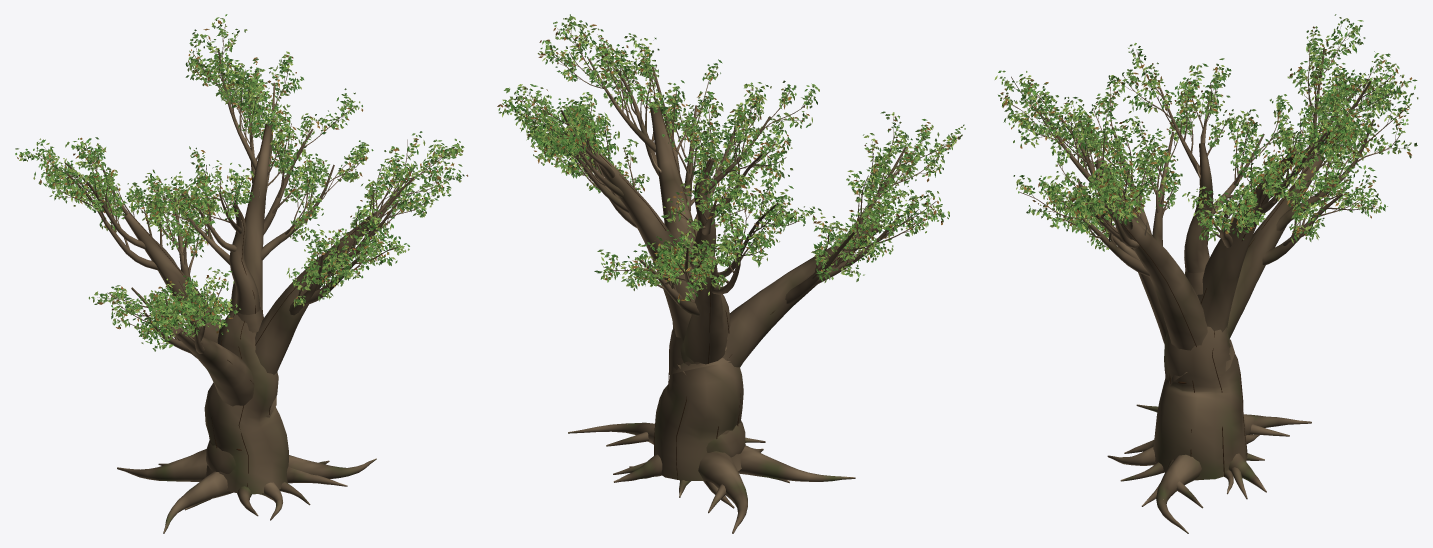
The model's file is ancient_tree_02.glb.
The picture shows the model from 3 angles, left to right: view 1: azimuth 30°, elevation 25°; view 2: azimuth 150°, elevation 25°; view 3: azimuth 270°, elevation 25°; orthographic projection. The views are drawn at different scales.
Visible parts, largest first — view 1: AncientTreeWood, AncientLeaves, FineBranches, DirectedBarkGrooves; view 2: AncientTreeWood, AncientLeaves, FineBranches, DirectedBarkGrooves; view 3: AncientTreeWood, AncientLeaves, FineBranches, DirectedBarkGrooves.
Part boxes in pixels (box(x1,y1,x2,y2)): AncientTreeWood: box(35, 24, 450, 533); AncientLeaves: box(15, 14, 467, 351); FineBranches: box(22, 24, 457, 344); DirectedBarkGrooves: box(130, 124, 369, 486); AncientTreeWood: box(515, 29, 960, 533); AncientLeaves: box(497, 14, 965, 303); FineBranches: box(503, 20, 958, 294); DirectedBarkGrooves: box(596, 106, 879, 479); AncientTreeWood: box(1011, 32, 1410, 533); AncientLeaves: box(994, 14, 1418, 251); FineBranches: box(1003, 23, 1408, 247); DirectedBarkGrooves: box(1095, 143, 1318, 476).
Size of the model in its own units: 22.86 by 24.03 by 20.94.
